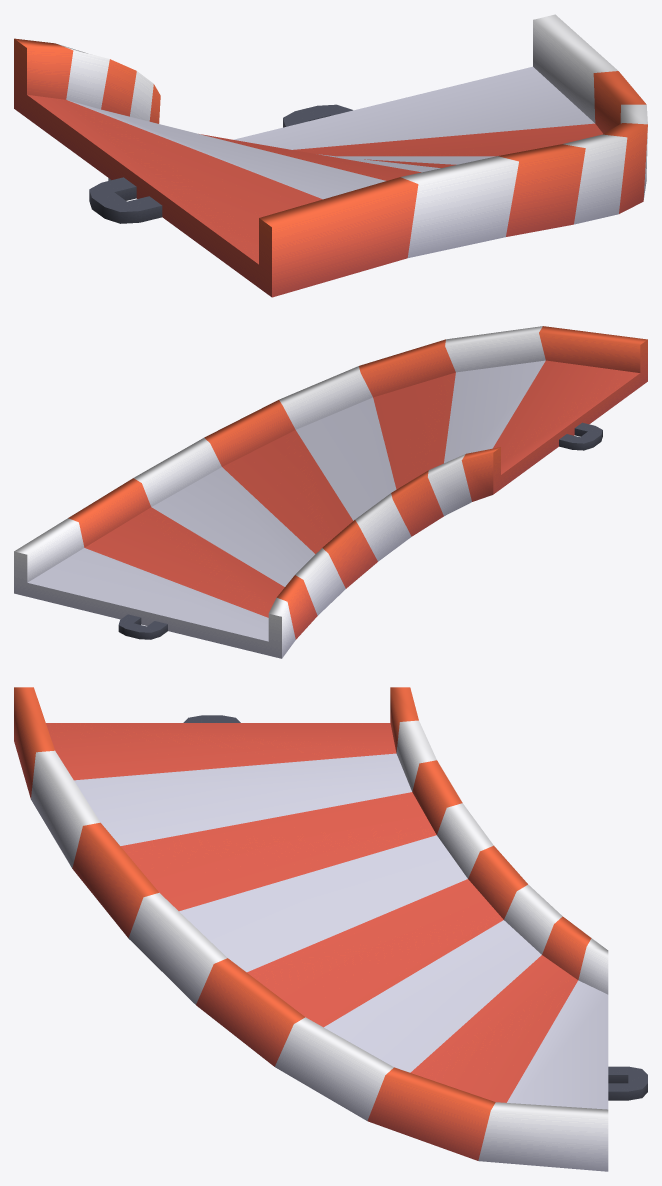
File: track-striped-wide-corner-small-ramp.glb
3 views of the same model, one above another, from view 1: azimuth 30°, elevation 25°; view 2: azimuth 150°, elevation 25°; view 3: azimuth 270°, elevation 25° (orthographic). The views are drawn at different scales.
Parts seen in each view (by area): view 1: track-striped-wide-corner-small-ramp; view 2: track-striped-wide-corner-small-ramp; view 3: track-striped-wide-corner-small-ramp.
Boxes of the visible parts, bbox=[...] form: track-striped-wide-corner-small-ramp: bbox=[14, 14, 647, 297]; track-striped-wide-corner-small-ramp: bbox=[14, 326, 647, 658]; track-striped-wide-corner-small-ramp: bbox=[14, 687, 647, 1171].
Size of the model in its own units: 9.6 by 3.9 by 9.6.
Materials: 1 (1 with a texture image).
